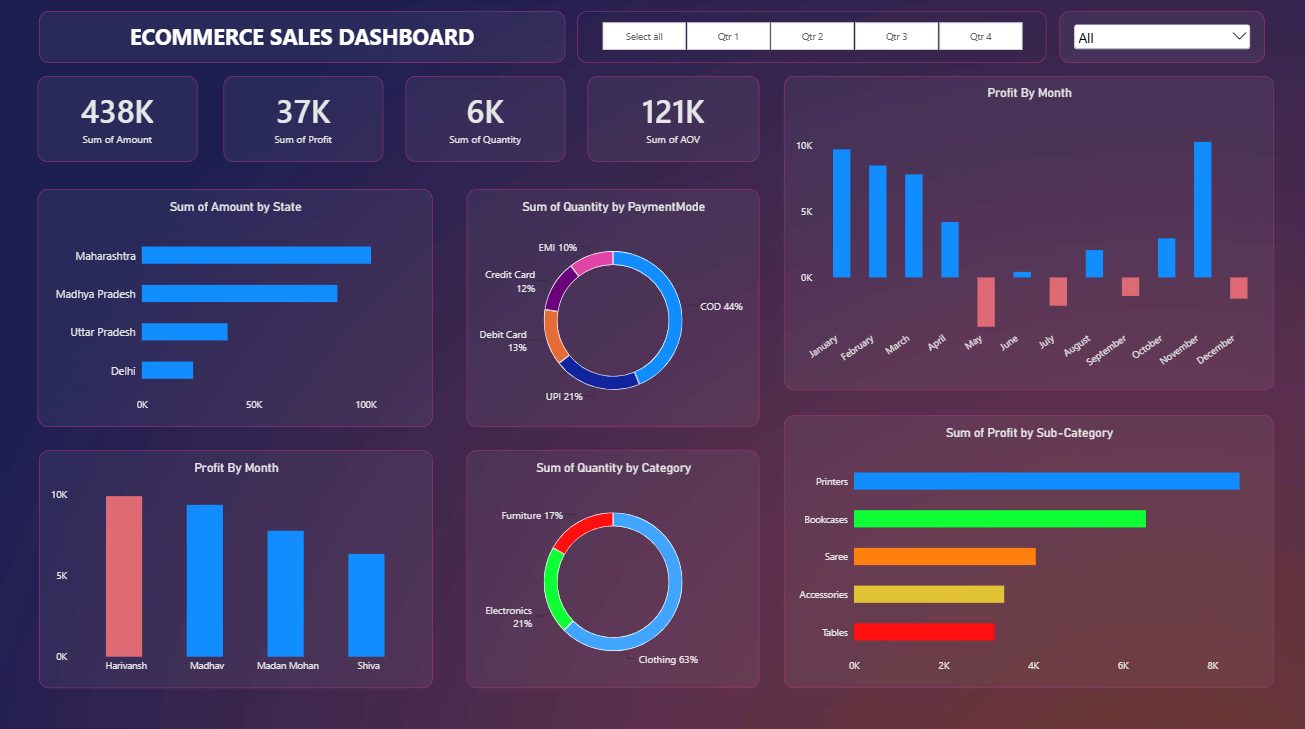

The page's visual inventory and layout, read from the dashboard file:
{"tool":"powerbi","page":{"name":"Sales_Dashboard","canvas":[1920,1080],"ordinal":0},"visuals":[{"type":"textbox","box":[57.3,19.1,773.4,76.4],"z":0},{"type":"columnChart","title":"Profit By Month","fields":{"Category":["Orders.Order Date.Variation.Date Hierarchy.Month"],"Y":["Sum(Details.Profit)"]},"box":[1150.6,114.5,720.4,461.8],"z":1000},{"type":"barChart","fields":{"Category":["Details.Sub-Category"],"Y":["Sum(Details.Profit)"]},"box":[1150.6,613.8,720.4,400.6],"z":2000},{"type":"donutChart","fields":{"Category":["Details.Category"],"Y":["Sum(Details.Quantity)"]},"box":[684.8,665.1,430.2,349.3],"z":3000},{"type":"donutChart","fields":{"Category":["Details.PaymentMode"],"Y":["Sum(Details.Quantity)"]},"box":[684.8,280.2,430.2,349.3],"z":4000},{"type":"cardVisual","fields":{"Data":["Sum(Details.AOV)"]},"box":[863.1,114.6,252.1,126],"z":5000},{"type":"cardVisual","fields":{"Data":["Sum(Details.Quantity)"]},"box":[596,114.5,234.9,126.3],"z":6000},{"type":"cardVisual","fields":{"Data":["Sum(Details.Profit)"]},"box":[327.6,114.5,234.9,126.3],"z":7000},{"type":"cardVisual","fields":{"Data":["Sum(Details.Amount)"]},"box":[55.3,114.5,234.9,126.3],"z":8000},{"type":"barChart","fields":{"Category":["Orders.State"],"Y":["Sum(Details.Amount)"]},"box":[55.3,280.2,580.2,349.3],"z":9000},{"type":"columnChart","title":"Profit By Month","fields":{"Category":["Orders.CustomerName"],"Y":["Sum(Details.Amount)"]},"box":[57.2,665.1,578.3,349.3],"z":10000},{"type":"slicer","fields":{"Values":["Orders.Order Date.Variation.Date Hierarchy.Quarter"]},"box":[847.9,19.1,689.4,76.4],"z":11000},{"type":"slicer","fields":{"Values":["Orders.State"]},"box":[1556.3,19.1,301.7,76.4],"z":12000}]}

Visuals, with their boxes in screenshot pixels (x1, y1, x2, y2), scaled from the page's 1920x1080 canvas onto the 1305x729 screenshot:
textbox: BBox(39, 13, 565, 64)
"Profit By Month" columnChart: BBox(782, 77, 1272, 389)
barChart - Details.Sub-Category x Sum(Details.Profit): BBox(782, 414, 1272, 685)
donutChart - Details.Category x Sum(Details.Quantity): BBox(465, 449, 758, 685)
donutChart - Details.PaymentMode x Sum(Details.Quantity): BBox(465, 189, 758, 425)
cardVisual - Sum(Details.AOV): BBox(587, 77, 758, 162)
cardVisual - Sum(Details.Quantity): BBox(405, 77, 565, 163)
cardVisual - Sum(Details.Profit): BBox(223, 77, 382, 163)
cardVisual - Sum(Details.Amount): BBox(38, 77, 197, 163)
barChart - Orders.State x Sum(Details.Amount): BBox(38, 189, 432, 425)
"Profit By Month" columnChart: BBox(39, 449, 432, 685)
slicer - Orders.Order Date.Variation.Date Hierarchy.Quarter: BBox(576, 13, 1045, 64)
slicer - Orders.State: BBox(1058, 13, 1263, 64)
